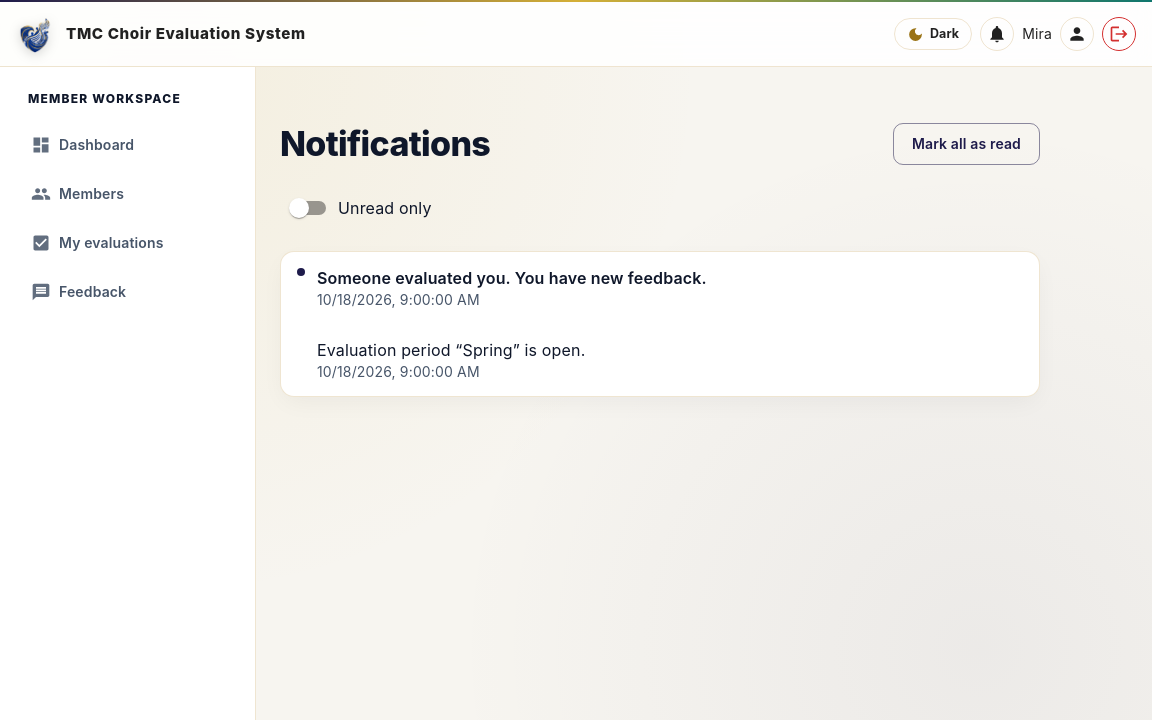
it: Notification center › lists everything and filters to unread
Expected: the text "Evaluation period “Spring” is open." is shown, [317, 340, 585, 360]
Step 1. Click the switch labelled "Unread only" → (360, 208), box [289, 198, 432, 218]
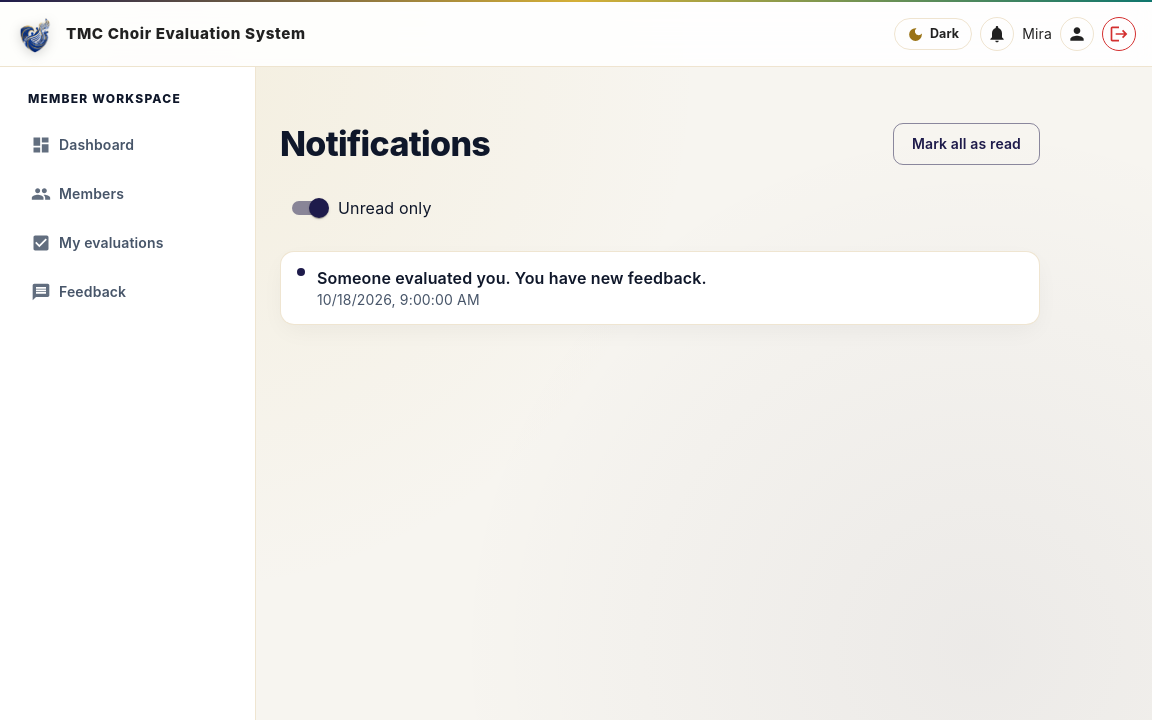
Expected: the button "Evaluation period “Spring” is open." is gone
